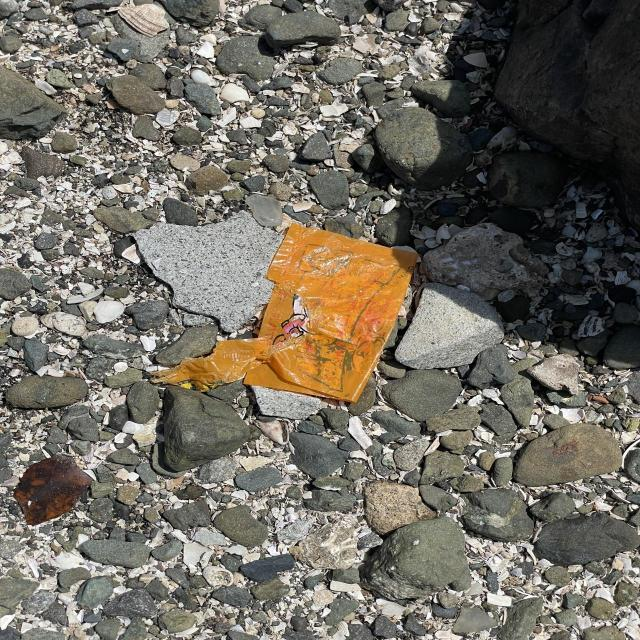plastic_waste: (242, 222, 422, 406)
